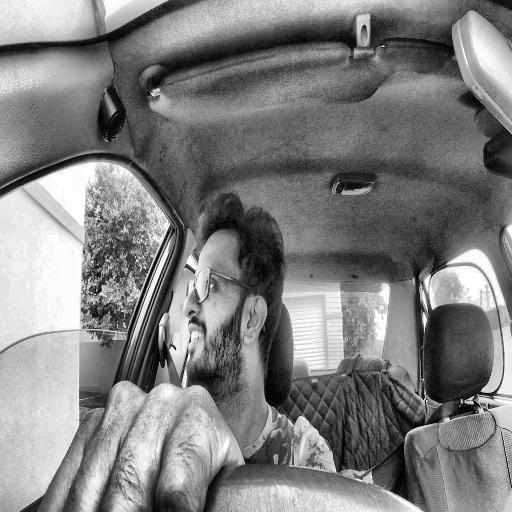awake: (183, 190, 285, 396)
